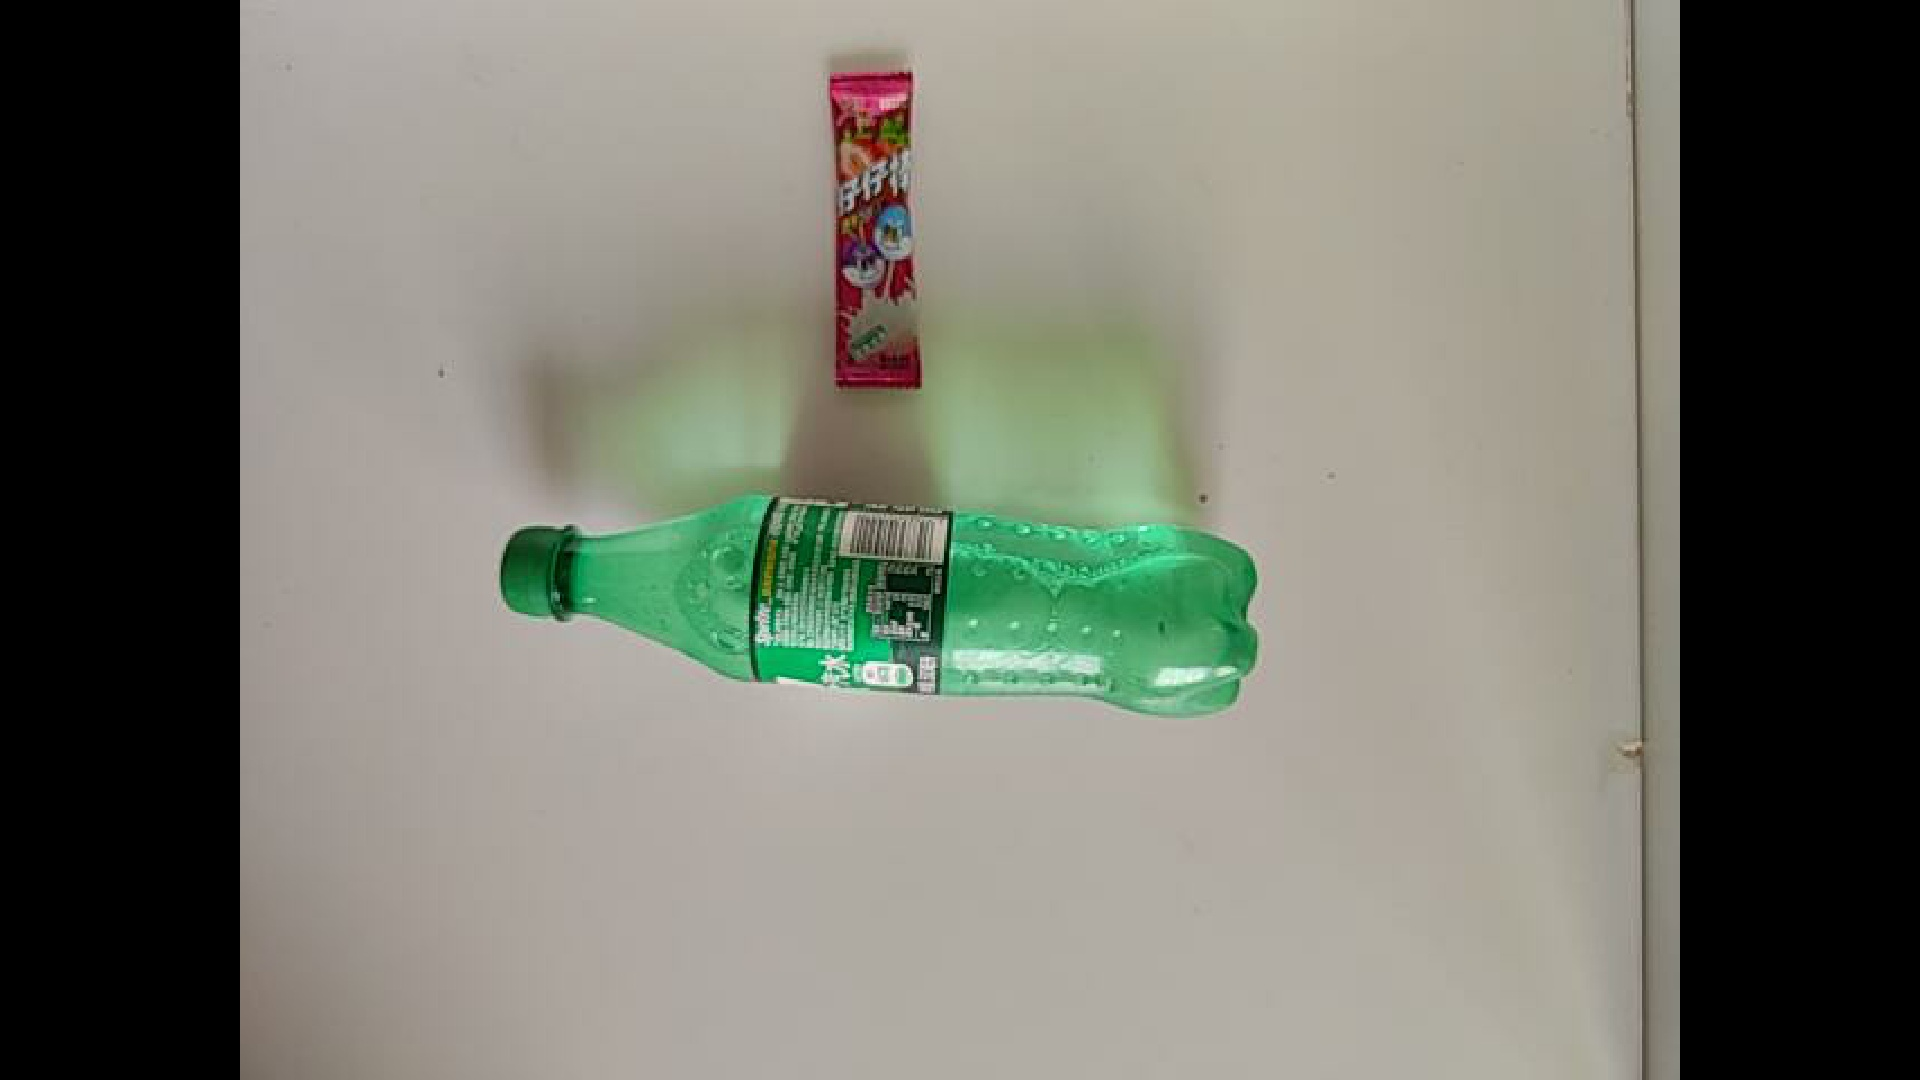sprite: (477, 465, 1270, 700)
sugar: (828, 69, 923, 394)
